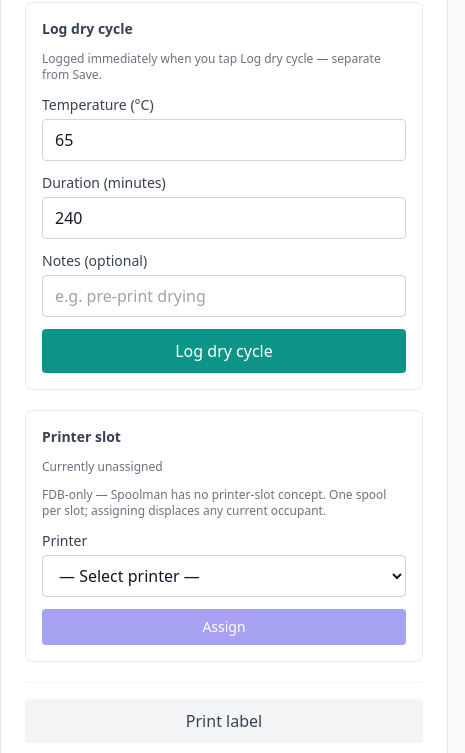
Test case: MobileSpoolUpdate › shows occupied warning when choosing a slot held by a different spool
(page scrolled)
Select "Bambu X1C" in the dropdown labelled "Printer" at (224, 576), box [42,554,406,596]
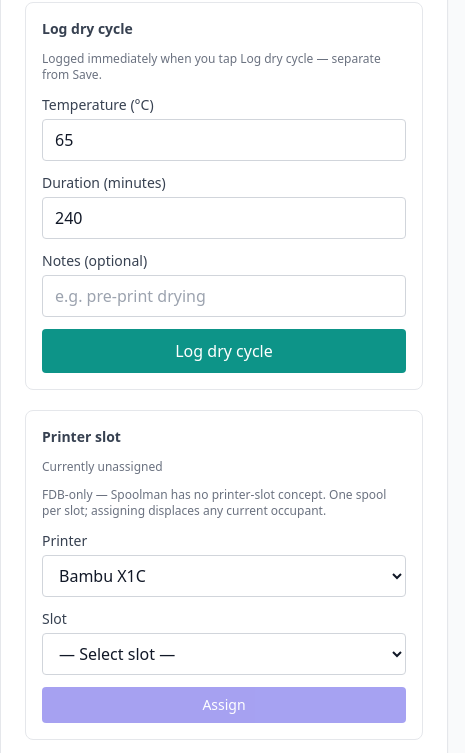
Check: the dropdown labelled "Slot" is shown
Note: slot-2 is occupied by spool-999 (not our spool spool-001)
Select "AMS 2 (occupied)" in the dropdown labelled "Slot" at (224, 654), box [42,632,406,674]
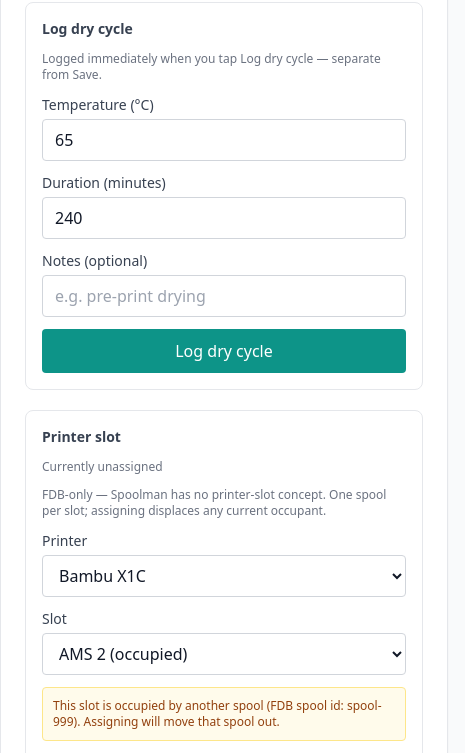
Check: the text "occupied by another spool" is shown, box [53,696,347,714]
